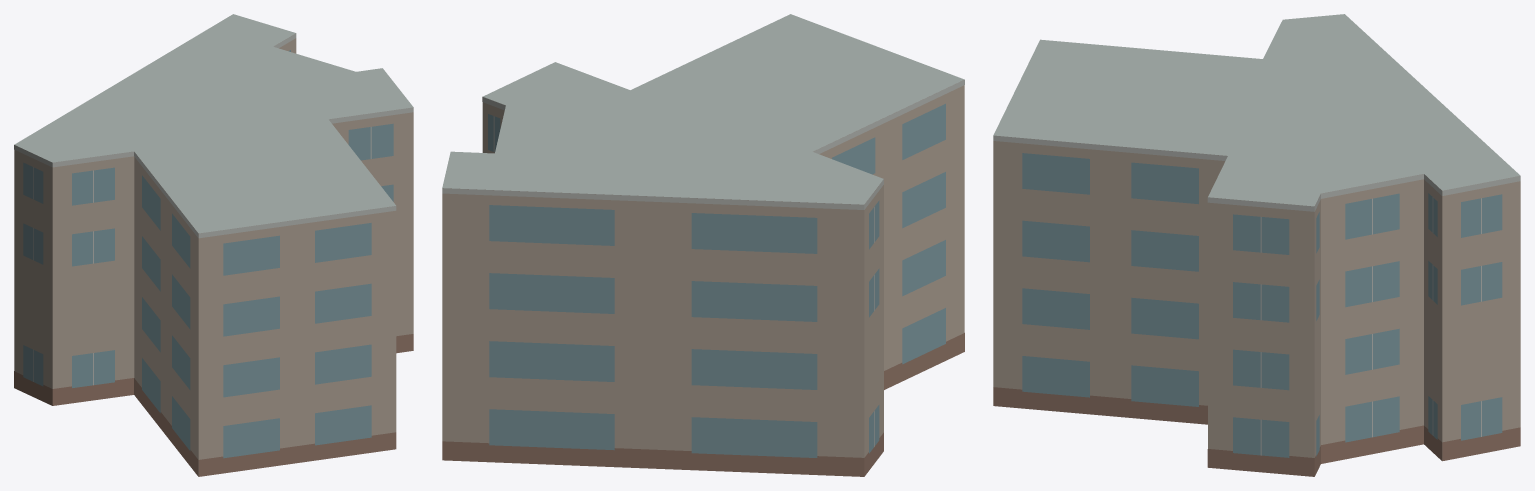
File: residential-5956b3df-7d88-4be1-93c5-a96ea0414006.glb
3 views of the same model, side by side, from view 1: azimuth 30°, elevation 25°; view 2: azimuth 150°, elevation 25°; view 3: azimuth 270°, elevation 25° (orthographic). The views are drawn at different scales.
Parts seen in each view (by area): view 1: residential-5956b3df-7d88-4be1-93c5-a96ea0414006.tmp; view 2: residential-5956b3df-7d88-4be1-93c5-a96ea0414006.tmp; view 3: residential-5956b3df-7d88-4be1-93c5-a96ea0414006.tmp.
Part boxes in pixels (x1,y1,x2,y2): residential-5956b3df-7d88-4be1-93c5-a96ea0414006.tmp: (14, 14, 413, 476); residential-5956b3df-7d88-4be1-93c5-a96ea0414006.tmp: (442, 14, 964, 476); residential-5956b3df-7d88-4be1-93c5-a96ea0414006.tmp: (993, 14, 1520, 476).
Size of the model in its own units: 18.63 by 12.2 by 21.57.
